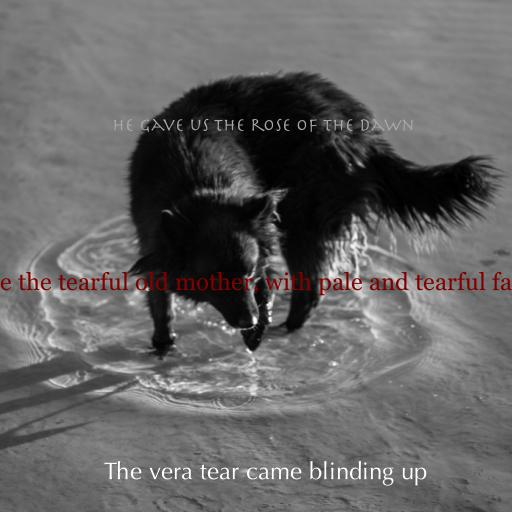Georgia: (0, 271, 512, 296)
Herculanum: (111, 118, 415, 133)
Optima: (103, 461, 427, 486)
